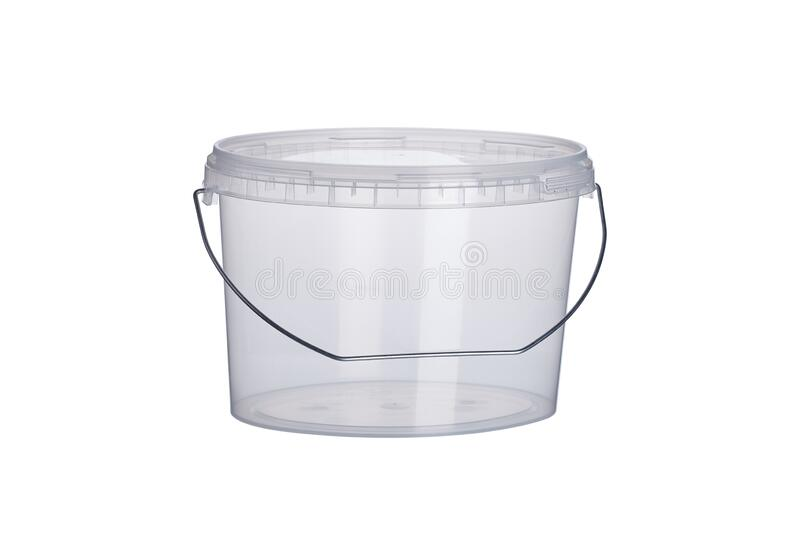PlasticBox: (186, 121, 614, 442)
